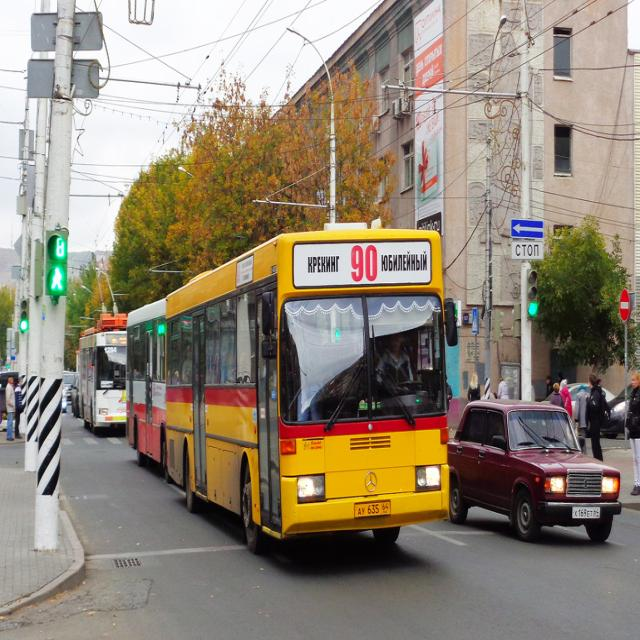number-of-bus: (351, 243, 380, 285), (237, 263, 243, 287)
